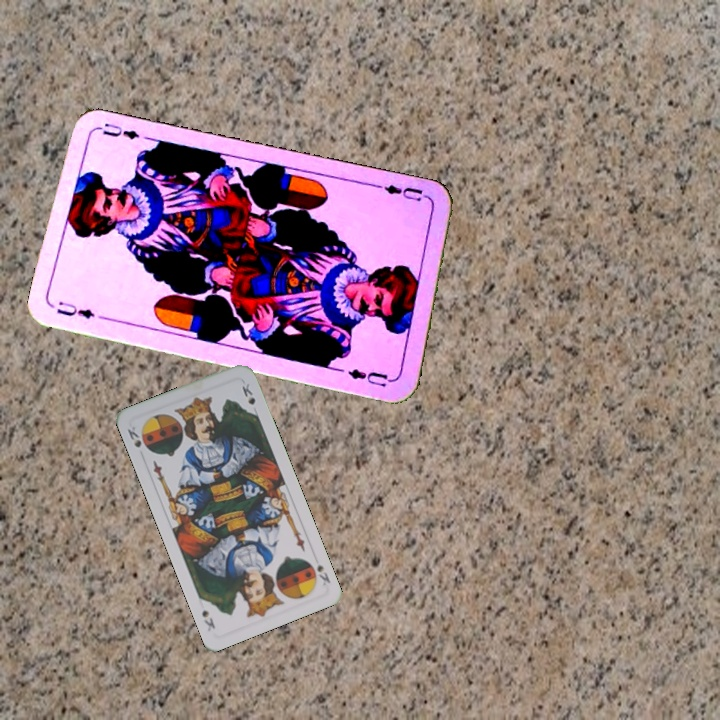EU: (374, 180, 432, 207), (53, 297, 97, 321)
SK: (123, 422, 144, 450), (313, 561, 333, 588)
